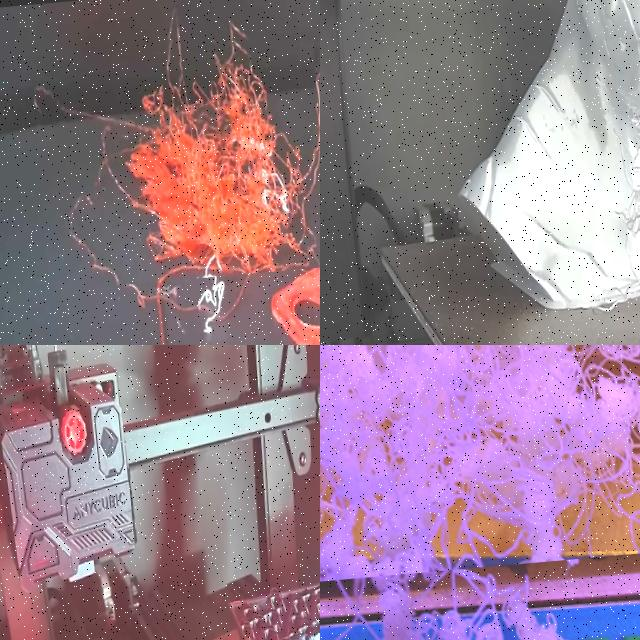spaghetti: (320, 345, 640, 595), (33, 36, 320, 275), (348, 560, 625, 640), (562, 80, 640, 316)
